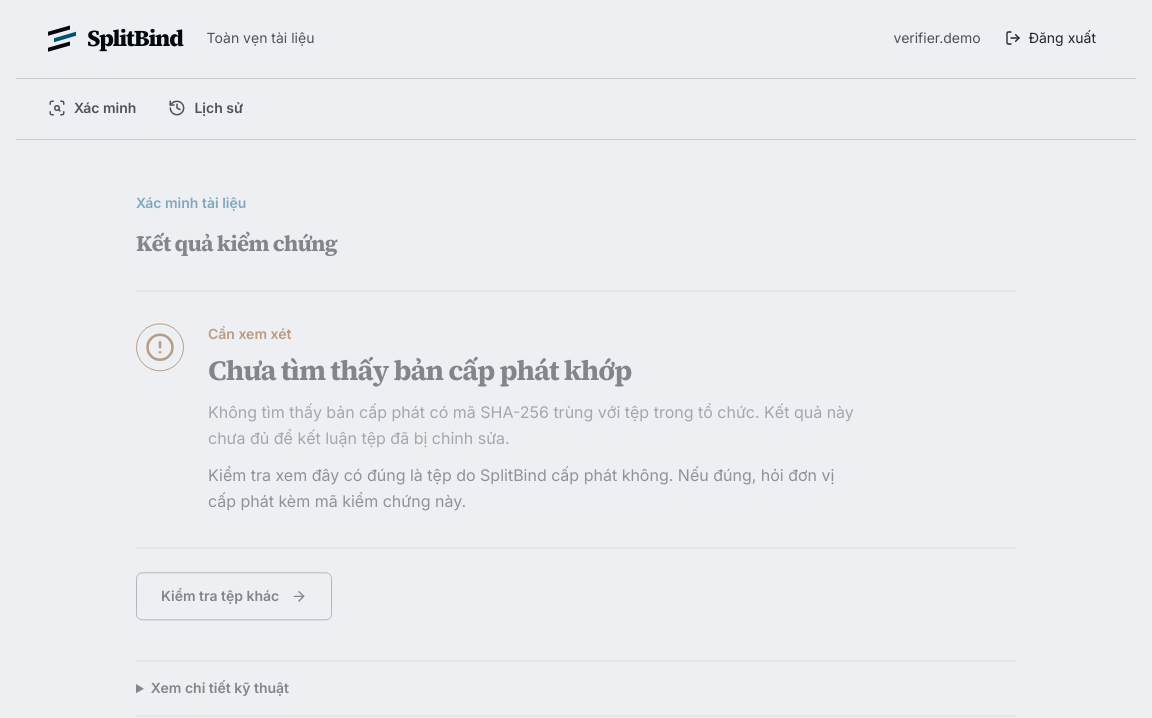
Test case: verification browser workflow › reports no matching issuance without asserting a known source was edited
Expected: the heading "Chưa tìm thấy bản cấp phát khớp" is shown, [208, 352, 631, 390]
Expected: the text "Không tìm thấy bản cấp phát có mã SHA-256 trùng" is shown, [208, 403, 854, 448]
Click the heading "Xem chi tiết kỹ thuật".
click(220, 688)  # box [151, 679, 289, 696]
(page scrolled)
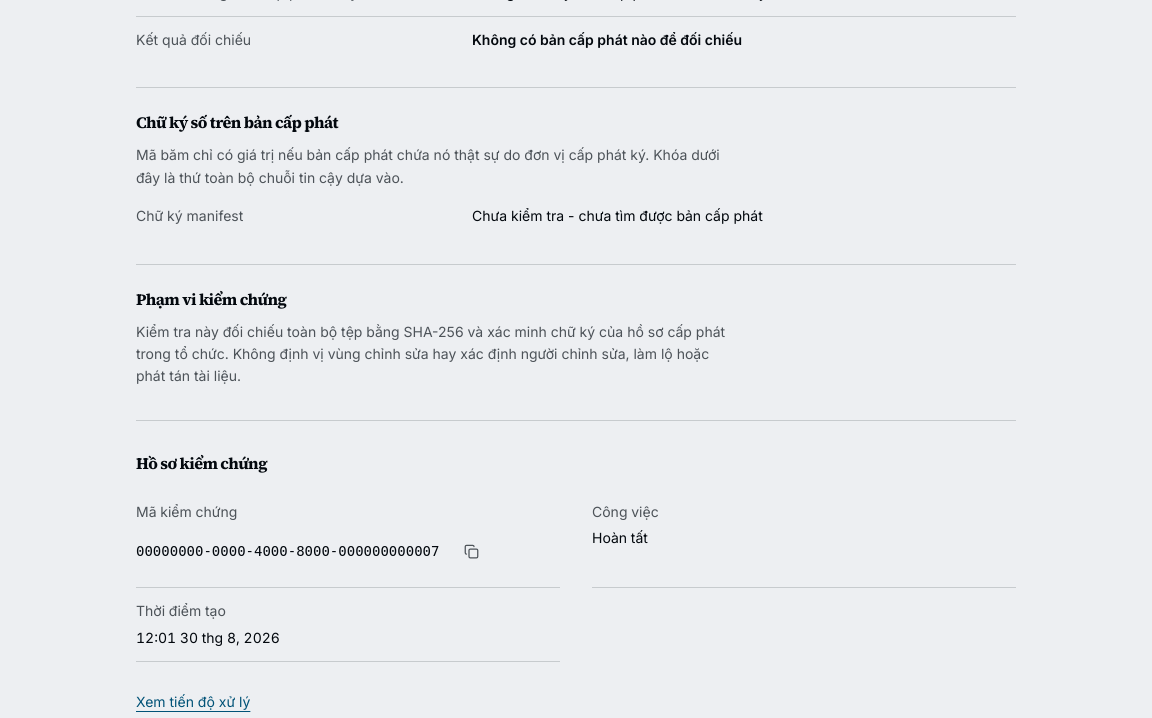
Now the text "Không định vị vùng chỉnh sửa" is shown, box [136, 323, 725, 384]
